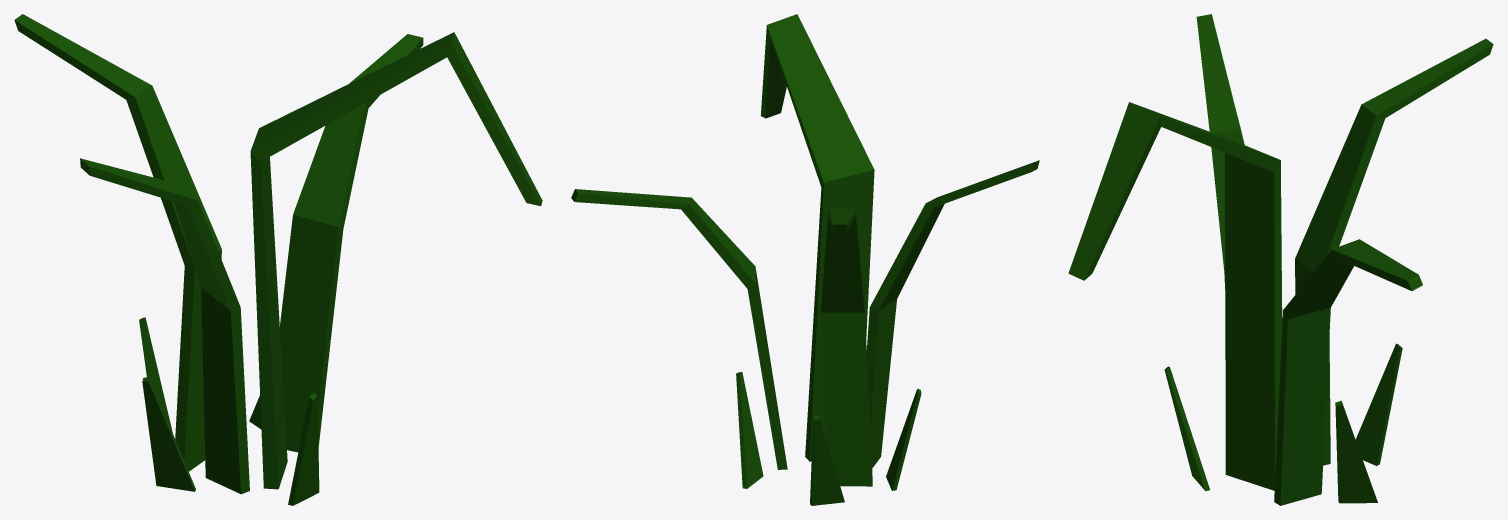
The model's file is Grass03.fbx.
3 renders of one model, left to right at view 1: azimuth 30°, elevation 25°; view 2: azimuth 150°, elevation 25°; view 3: azimuth 270°, elevation 25°, orthographic. The views are drawn at different scales.
Parts seen in each view (by area): view 1: Grass03; view 2: Grass03; view 3: Grass03.
Part boxes in pixels (left/top/right/bottom): Grass03: left=14, top=14, right=542, bottom=505; Grass03: left=571, top=14, right=1039, bottom=505; Grass03: left=1068, top=14, right=1493, bottom=505.
Bounding box in the file's own units: 194 × 188 × 168.
